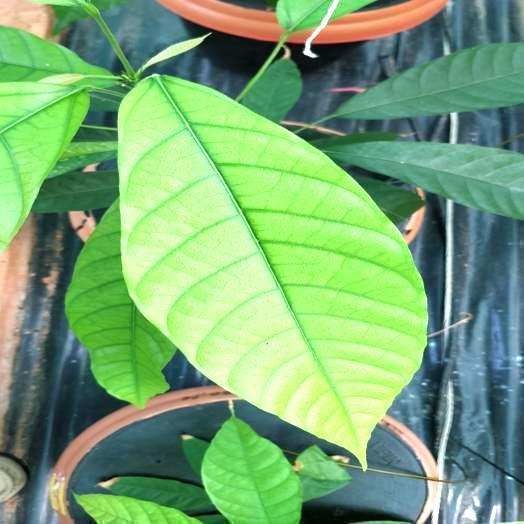Healthy Leaf: (323, 141, 523, 219), (329, 43, 523, 119), (100, 476, 214, 513), (243, 58, 300, 122), (33, 172, 118, 212), (295, 446, 350, 501), (48, 141, 116, 177), (182, 435, 208, 477)
Iron: (118, 75, 427, 465), (65, 200, 175, 407), (0, 82, 89, 249), (201, 415, 301, 523), (0, 26, 109, 81), (74, 494, 201, 523), (277, 0, 374, 32)
